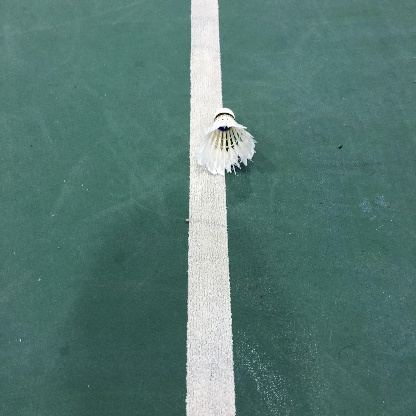ball_single: (197, 108, 255, 174)
